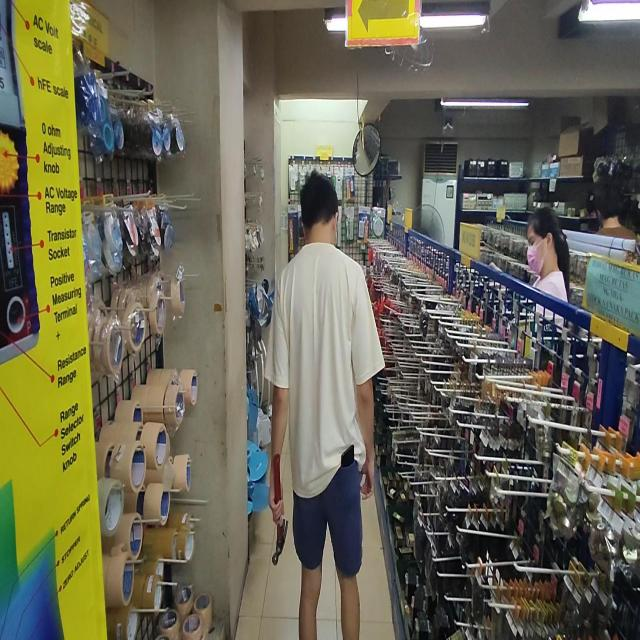hammer: (272, 454, 288, 565)
